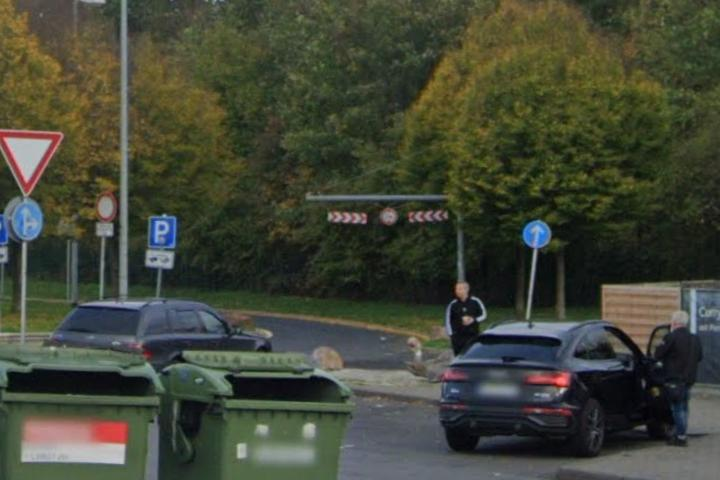traffic_sign: (1, 128, 64, 198), (11, 203, 43, 240), (146, 215, 178, 250), (521, 218, 552, 248), (96, 192, 117, 221)
vehicle: (437, 316, 675, 461), (28, 294, 275, 401)
